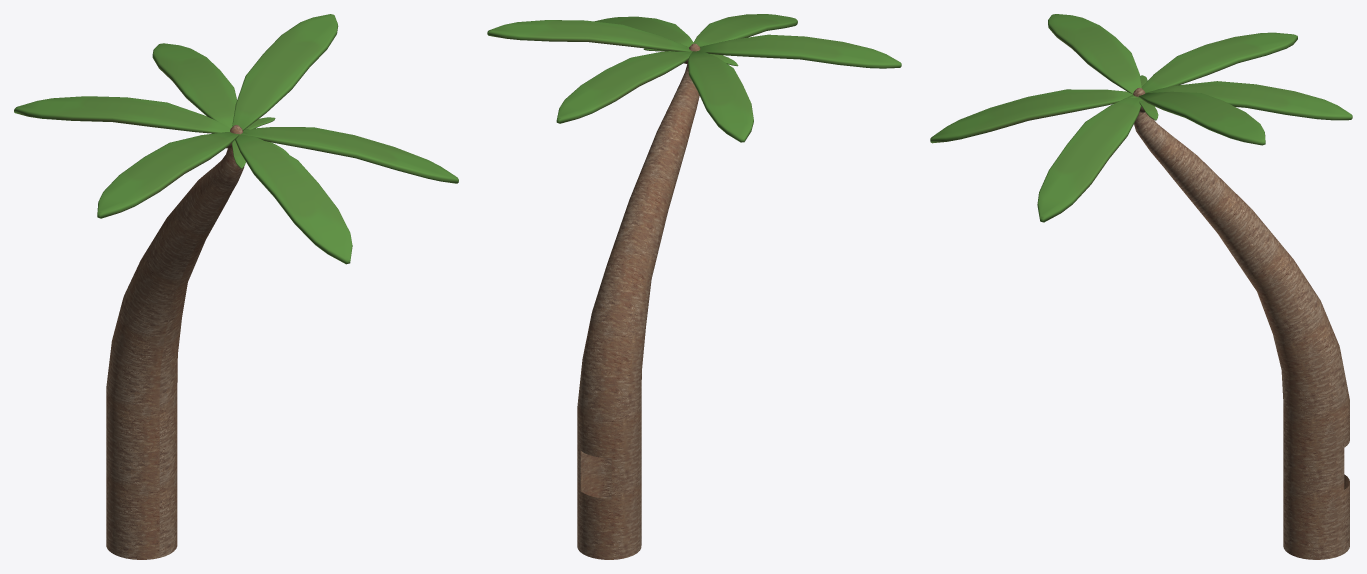
File: palmieri.fbx
3 views of the same model, side by side, from view 1: azimuth 30°, elevation 25°; view 2: azimuth 150°, elevation 25°; view 3: azimuth 270°, elevation 25° (orthographic). The views are drawn at different scales.
Parts seen in each view (by area): view 1: Cube.012, Cylinder.027; view 2: Cylinder.027, Cube.012; view 3: Cylinder.027, Cube.012.
Boxes of the visible parts, left/top/right/bottom form: Cube.012: left=14, top=14, right=458, bottom=264; Cylinder.027: left=106, top=125, right=244, bottom=559; Cylinder.027: left=577, top=43, right=700, bottom=559; Cube.012: left=487, top=14, right=901, bottom=142; Cylinder.027: left=1133, top=88, right=1349, bottom=559; Cube.012: left=930, top=14, right=1352, bottom=222.
Size of the model in its own units: 567 by 784 by 624.
